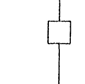Cable Termination Box: (42, 15, 77, 52)
